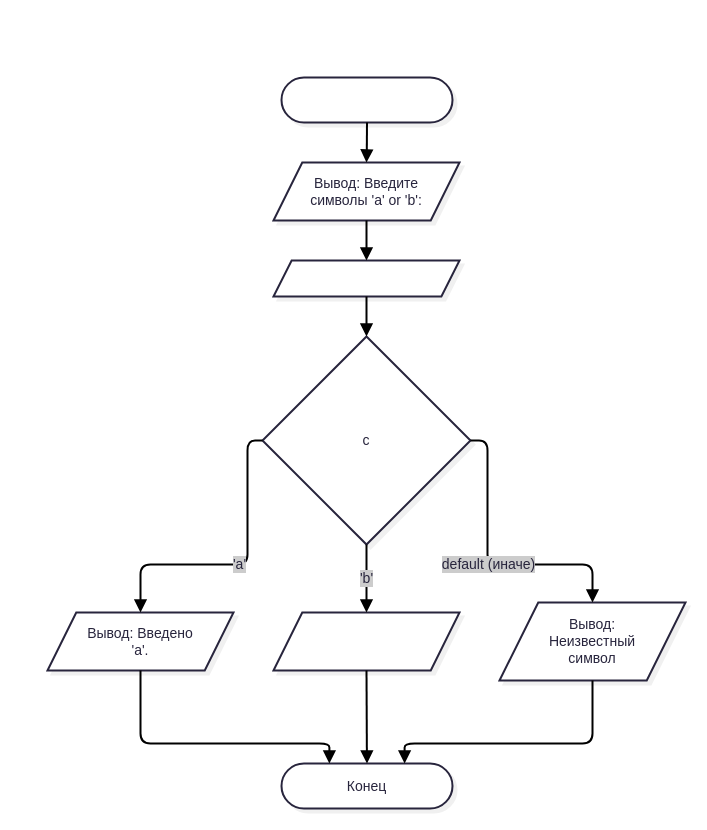
Image size: 707x830. Some labels were removed from this diagram. The centre of each missing label's shape, as x and y in pixels:
Ввод символа c: the point at 368,280
Вывод: Введено 'b'.: the point at 368,643
Начало: the point at 368,101
